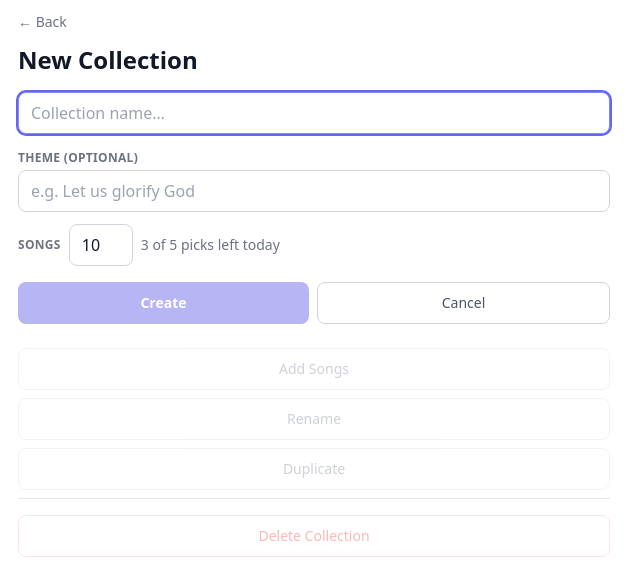
NewCollectionCreator — theme picker › daily limit hit mid-session shows the exhausted message
Expected: the text "3 of 5 picks left today" is shown, x1=141 y1=235 x2=280 y2=255
Type "Sunday" into the field with placeholder "Collection name…". click: coordinates (314, 113)
box: x1=18 y1=92 x2=610 y2=134
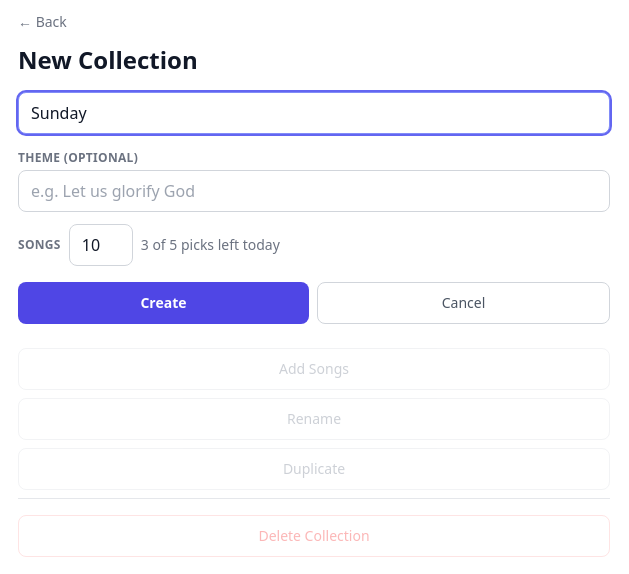
Type "Let us glorify God" into the field labelled "Theme (optional)". click: coordinates (314, 191)
box: x1=18 y1=170 x2=610 y2=212
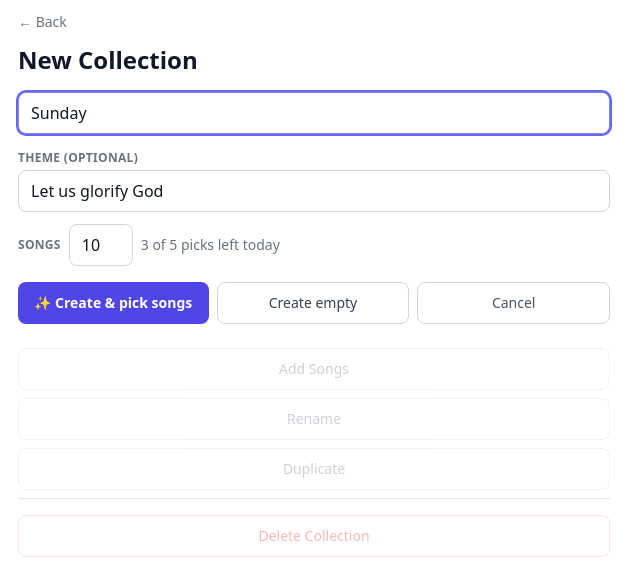
Click the button "✨ Create & pick songs". click: coordinates (113, 303)
box: x1=18 y1=282 x2=209 y2=324
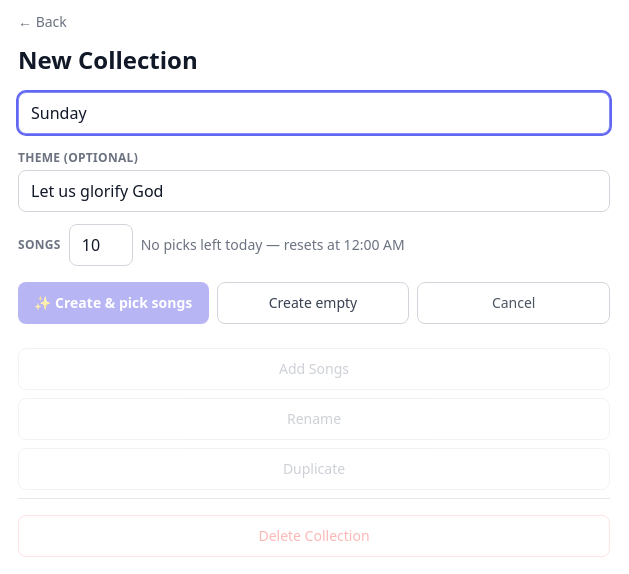
Expected: the text "No picks left today — resets at 12:00 AM" is shown, x1=141 y1=235 x2=405 y2=255
